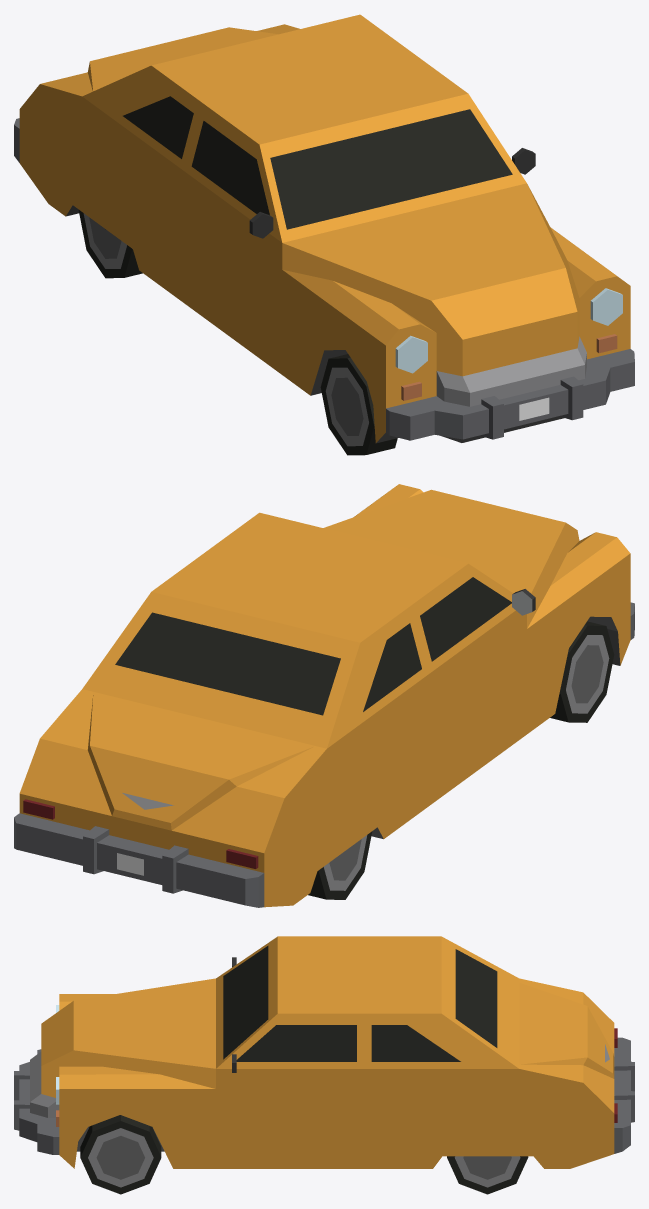
File: Veh_Retro_Car_01_Yellow.obj
3 renders of one model, top to bottom at view 1: azimuth 30°, elevation 25°; view 2: azimuth 150°, elevation 25°; view 3: azimuth 270°, elevation 25°, orthographic. The views are drawn at different scales.
Bounding box in the file's own units: 1.1 × 0.863 × 2.77.
